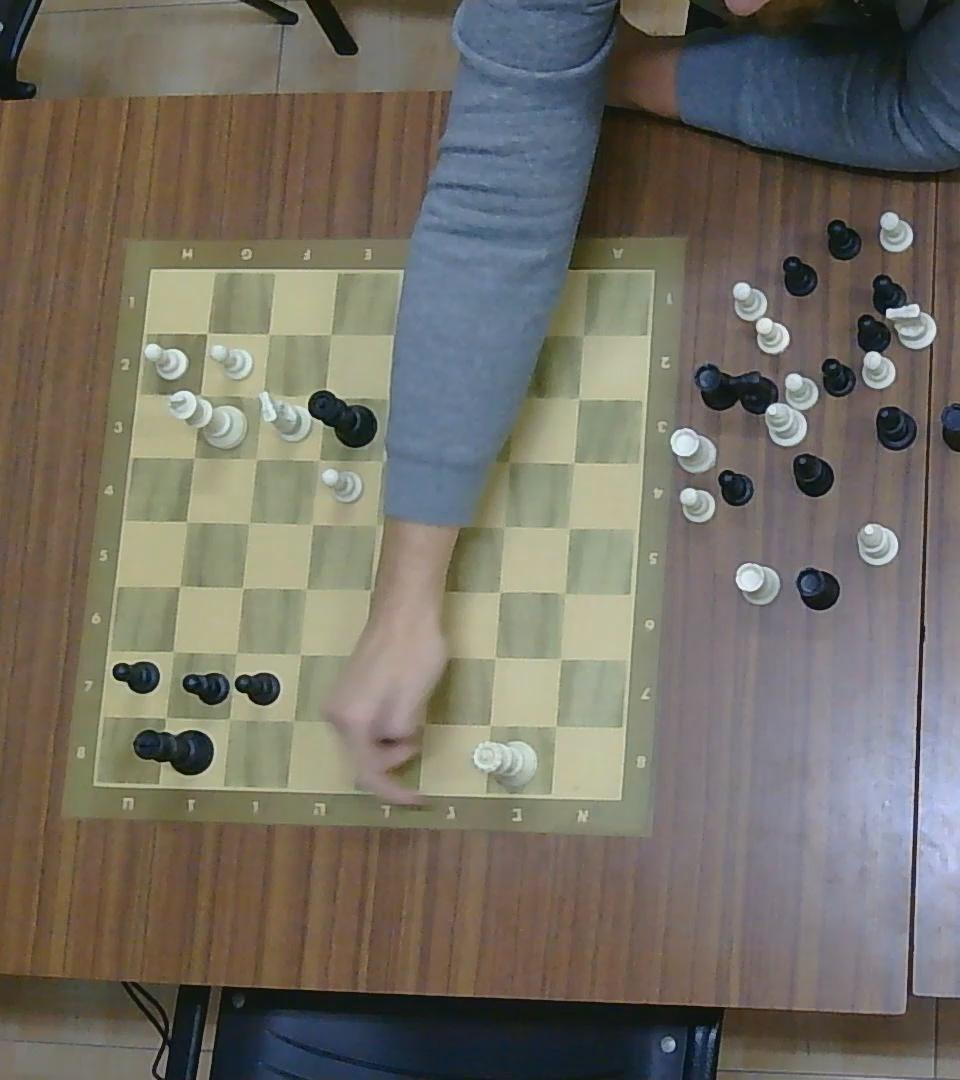xcorner: (448, 321, 476, 353), (506, 317, 535, 347), (375, 383, 405, 412), (380, 319, 409, 348), (479, 643, 507, 672), (410, 709, 438, 738), (550, 578, 578, 606), (542, 711, 570, 739), (555, 512, 583, 540), (364, 510, 392, 538), (476, 709, 503, 738), (548, 643, 575, 672), (310, 381, 338, 408), (414, 640, 440, 669), (185, 381, 212, 408), (246, 381, 273, 408), (280, 706, 306, 734), (153, 701, 179, 729), (357, 576, 383, 604), (344, 708, 370, 736), (348, 641, 374, 668), (561, 447, 587, 474), (287, 640, 312, 668), (441, 382, 466, 410), (167, 572, 192, 599), (229, 573, 254, 600), (161, 637, 186, 664), (427, 577, 452, 604), (436, 511, 461, 538), (371, 447, 396, 473), (487, 578, 511, 605), (294, 575, 318, 602), (497, 447, 521, 474), (435, 447, 459, 474), (503, 381, 527, 408), (216, 706, 241, 731), (318, 321, 343, 346), (570, 321, 595, 346), (492, 513, 516, 539), (237, 508, 261, 534), (174, 508, 198, 534), (223, 640, 247, 665), (181, 444, 205, 469), (300, 510, 324, 535), (245, 445, 268, 469), (307, 447, 330, 470), (258, 320, 280, 344), (196, 320, 218, 344), (568, 387, 591, 409)
